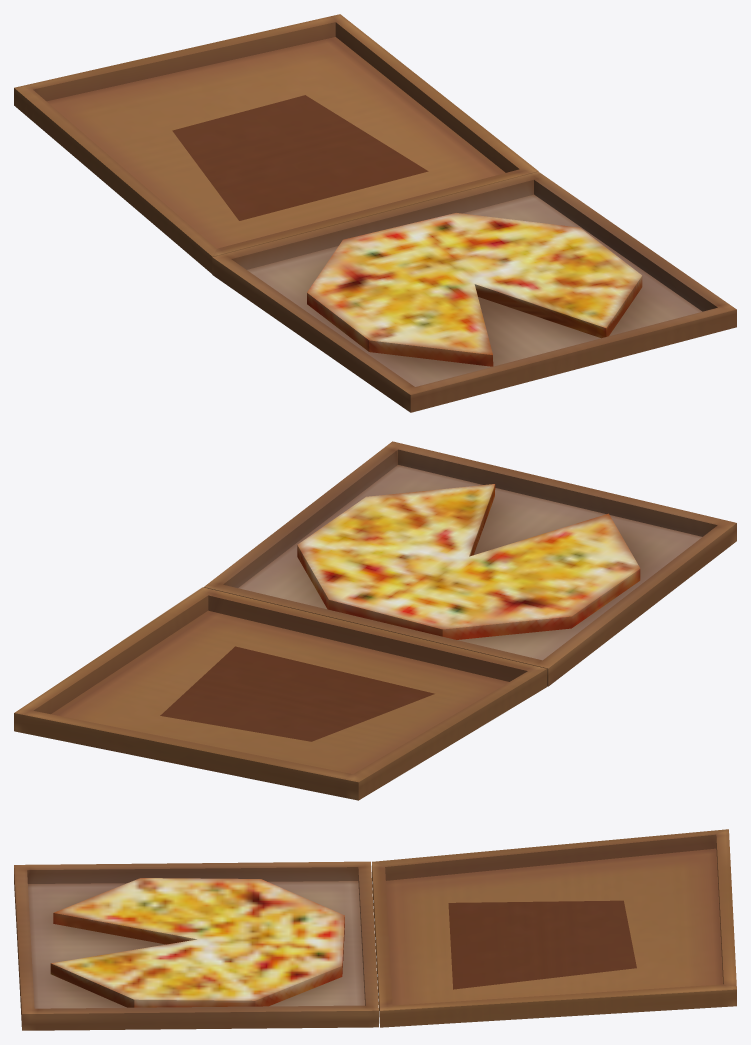
File: MaLuBian_01_pisa_01.FBX
The picture shows the model from 3 angles, top to bottom: view 1: azimuth 30°, elevation 25°; view 2: azimuth 150°, elevation 25°; view 3: azimuth 270°, elevation 25°; orthographic projection. The views are drawn at different scales.
Visible parts, largest first — view 1: MaLuBian_01_pisa_01; view 2: MaLuBian_01_pisa_01; view 3: MaLuBian_01_pisa_01.
Part boxes in pixels (x1=…): MaLuBian_01_pisa_01: x1=14, y1=14, x2=736, y2=412; MaLuBian_01_pisa_01: x1=14, y1=441, x2=736, y2=800; MaLuBian_01_pisa_01: x1=14, y1=829, x2=736, y2=1030.
Size of the model in its own units: 133 by 18.1 by 259.
